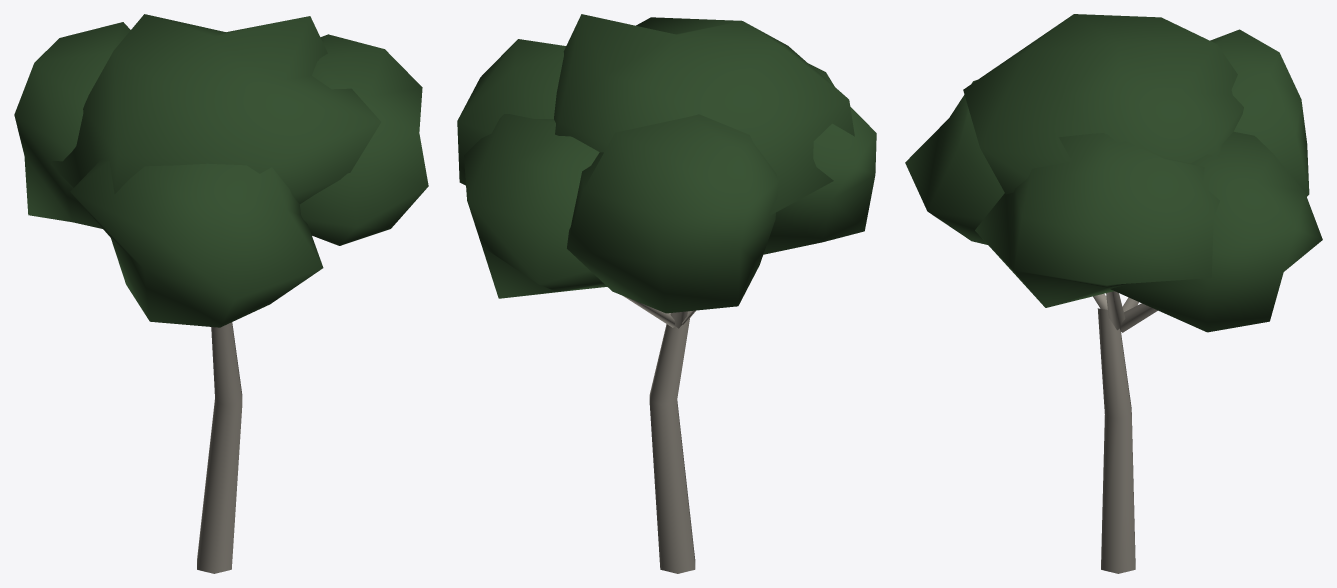
The model's file is gaiac.glb.
3 renders of one model, left to right at view 1: azimuth 30°, elevation 25°; view 2: azimuth 150°, elevation 25°; view 3: azimuth 270°, elevation 25°, orthographic.
Visible parts, largest first — view 1: gaiac; view 2: gaiac; view 3: gaiac.
Boxes of the visible parts, x1=… form: gaiac: x1=14, y1=14, x2=428, y2=573; gaiac: x1=457, y1=14, x2=876, y2=573; gaiac: x1=905, y1=14, x2=1322, y2=573.
Bounding box in the file's own units: 3.73 × 5.2 × 3.78.
